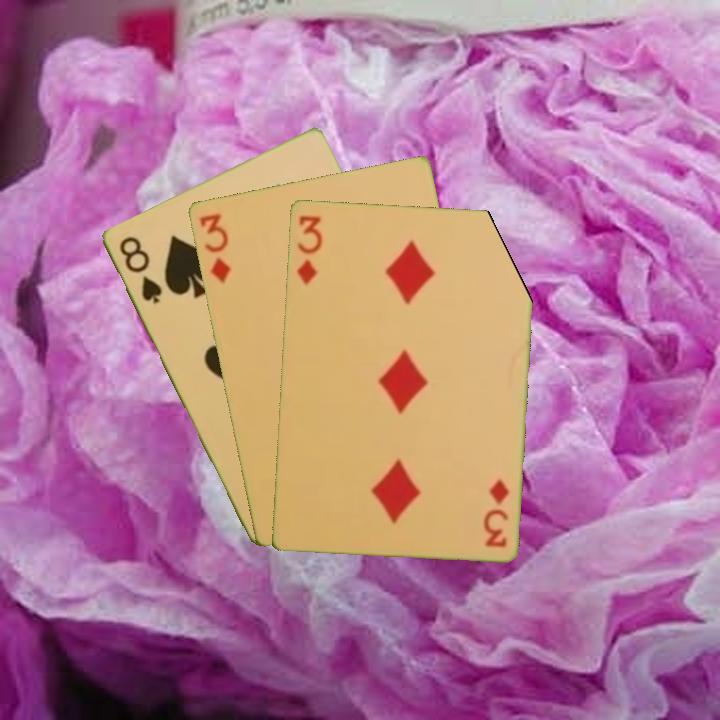3d: (195, 209, 233, 287), (293, 211, 325, 288), (481, 476, 511, 550)
8s: (115, 232, 165, 307)
